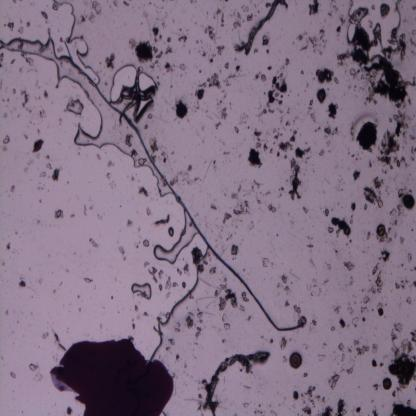Air bubble: (0, 33, 72, 86), (0, 30, 66, 82), (346, 1, 404, 54), (153, 213, 197, 265), (59, 0, 91, 68), (74, 115, 116, 153), (106, 65, 135, 106), (138, 70, 158, 92), (130, 282, 152, 300), (136, 95, 152, 118), (66, 99, 84, 115), (344, 23, 357, 43), (168, 226, 174, 238)
Background material: (368, 55, 416, 109), (386, 353, 416, 389), (356, 118, 379, 157), (378, 130, 400, 168), (169, 164, 200, 185), (308, 29, 329, 57), (289, 157, 302, 201), (389, 111, 411, 137), (364, 185, 384, 210), (354, 27, 374, 52), (197, 72, 223, 91), (388, 399, 416, 415), (135, 42, 154, 65), (370, 264, 384, 294), (332, 218, 352, 238), (396, 33, 410, 61), (52, 328, 67, 354), (351, 48, 370, 68), (272, 72, 288, 95), (190, 247, 204, 273), (306, 277, 324, 297), (376, 224, 394, 244), (151, 211, 172, 228), (233, 199, 252, 217), (248, 148, 262, 170), (314, 68, 334, 83), (30, 137, 46, 155), (325, 101, 338, 121), (225, 289, 238, 309), (294, 146, 312, 160), (204, 25, 218, 43), (334, 398, 348, 416), (327, 1, 339, 20), (278, 142, 294, 156), (336, 50, 352, 64), (378, 2, 392, 18), (148, 134, 159, 154), (327, 373, 339, 391), (104, 51, 116, 69), (20, 88, 30, 109), (21, 51, 35, 66), (253, 69, 268, 83), (316, 87, 327, 106), (213, 282, 227, 296), (148, 265, 158, 284), (116, 244, 127, 261), (50, 167, 61, 184), (354, 345, 371, 356), (401, 340, 413, 355), (308, 1, 320, 16), (336, 14, 345, 34), (266, 89, 276, 106), (395, 277, 409, 289), (152, 27, 163, 42), (324, 126, 340, 136), (217, 296, 227, 312), (240, 289, 250, 305), (349, 68, 362, 80), (221, 211, 232, 225), (186, 311, 194, 330), (319, 406, 334, 416), (92, 1, 102, 16), (379, 250, 391, 262), (376, 302, 384, 320), (282, 286, 294, 298), (266, 202, 278, 214), (219, 106, 228, 122), (87, 236, 99, 248), (76, 14, 87, 27), (393, 321, 404, 334), (289, 130, 299, 144), (273, 126, 283, 140), (124, 133, 133, 148), (317, 350, 326, 365), (279, 336, 288, 351), (373, 176, 384, 188), (53, 208, 64, 220), (396, 156, 407, 168), (195, 88, 205, 101), (164, 61, 174, 74), (138, 187, 149, 198), (344, 260, 355, 271), (250, 179, 260, 191), (256, 108, 268, 118), (262, 33, 270, 48), (216, 44, 226, 56), (332, 304, 342, 316), (196, 310, 204, 325), (396, 204, 405, 217), (371, 343, 380, 356), (306, 385, 315, 398), (194, 325, 203, 338), (261, 255, 269, 269), (160, 150, 168, 164), (338, 316, 346, 330), (183, 260, 190, 276), (343, 366, 357, 374), (164, 45, 174, 56), (178, 61, 188, 72), (178, 34, 188, 45), (127, 38, 137, 49), (126, 217, 135, 229), (391, 345, 400, 357), (18, 276, 27, 288), (82, 276, 95, 284), (52, 0, 60, 13), (220, 12, 226, 29), (302, 405, 312, 415), (232, 20, 242, 30), (137, 156, 147, 166), (390, 331, 399, 342), (292, 304, 301, 315), (141, 237, 150, 248), (43, 159, 52, 170), (230, 245, 239, 256), (347, 302, 354, 316), (353, 170, 361, 182), (370, 404, 378, 416), (309, 112, 317, 124), (292, 390, 300, 402), (7, 20, 15, 32), (317, 394, 325, 406), (352, 316, 359, 329), (362, 295, 372, 304), (410, 329, 416, 344), (29, 362, 38, 372), (38, 108, 47, 118), (223, 77, 232, 87), (275, 98, 284, 108), (359, 305, 367, 316), (88, 14, 96, 25), (246, 12, 254, 23), (234, 63, 242, 74), (174, 352, 182, 363), (372, 381, 379, 393), (166, 276, 172, 290), (210, 264, 217, 276), (130, 148, 139, 157), (209, 202, 218, 211), (2, 135, 11, 144), (40, 10, 48, 20), (310, 318, 318, 328), (66, 406, 74, 416), (318, 146, 326, 156), (156, 50, 164, 60), (17, 26, 25, 36), (109, 180, 117, 190), (352, 338, 360, 348), (158, 269, 165, 280), (406, 295, 413, 306), (297, 32, 304, 43), (281, 273, 288, 284), (106, 170, 112, 182), (407, 251, 413, 263), (146, 205, 152, 217), (254, 141, 262, 150), (310, 397, 316, 409), (96, 212, 104, 221), (214, 121, 222, 130), (324, 206, 330, 218), (222, 312, 228, 324), (241, 4, 250, 12), (42, 89, 49, 99), (42, 330, 49, 340), (302, 206, 309, 216), (371, 359, 378, 369), (365, 230, 372, 240), (327, 224, 334, 234), (223, 60, 230, 70), (340, 353, 346, 364), (5, 240, 11, 251), (263, 142, 269, 153), (308, 99, 314, 110), (10, 183, 16, 194), (107, 160, 115, 168), (172, 281, 180, 289), (0, 145, 8, 153), (0, 52, 4, 68), (200, 50, 208, 58), (168, 338, 176, 346), (254, 129, 262, 137), (390, 208, 397, 217), (243, 401, 250, 410), (268, 108, 275, 117), (284, 300, 291, 309), (265, 1, 272, 10), (300, 46, 310, 52), (176, 266, 182, 276), (216, 7, 222, 17), (83, 202, 87, 217), (39, 171, 46, 179), (306, 243, 314, 250), (314, 125, 321, 133), (156, 74, 160, 88), (147, 112, 154, 120), (356, 405, 362, 414), (350, 202, 356, 211), (286, 119, 292, 128), (152, 46, 158, 55), (122, 1, 131, 7), (158, 282, 163, 292), (411, 279, 416, 289), (223, 323, 230, 330), (338, 343, 344, 351), (361, 316, 367, 324), (284, 58, 290, 66), (267, 64, 273, 72), (22, 133, 28, 141), (181, 282, 187, 290), (239, 304, 245, 312), (10, 58, 16, 66), (10, 371, 16, 379), (234, 126, 240, 134), (166, 36, 172, 44), (232, 192, 238, 200), (134, 303, 139, 312), (257, 197, 262, 206), (400, 236, 405, 245), (11, 88, 17, 95), (253, 47, 259, 54), (264, 48, 270, 55), (330, 325, 336, 332), (144, 261, 150, 268), (327, 261, 331, 271), (276, 150, 281, 158), (269, 147, 274, 155), (114, 0, 119, 8), (96, 153, 101, 161), (364, 203, 368, 213), (237, 183, 241, 193), (70, 213, 76, 219), (268, 338, 274, 344), (143, 312, 149, 318), (131, 323, 136, 330), (26, 21, 31, 28), (209, 57, 214, 64), (165, 292, 170, 299), (3, 112, 8, 119), (4, 308, 8, 316), (144, 122, 148, 130)
Cellulose filter fibre: (201, 349, 271, 415), (244, 0, 288, 56)
Diatom: (288, 352, 303, 370), (403, 194, 415, 210), (176, 103, 186, 118), (382, 377, 392, 391)
Microfibre: (62, 43, 303, 330)
Pen: (49, 337, 175, 414)
